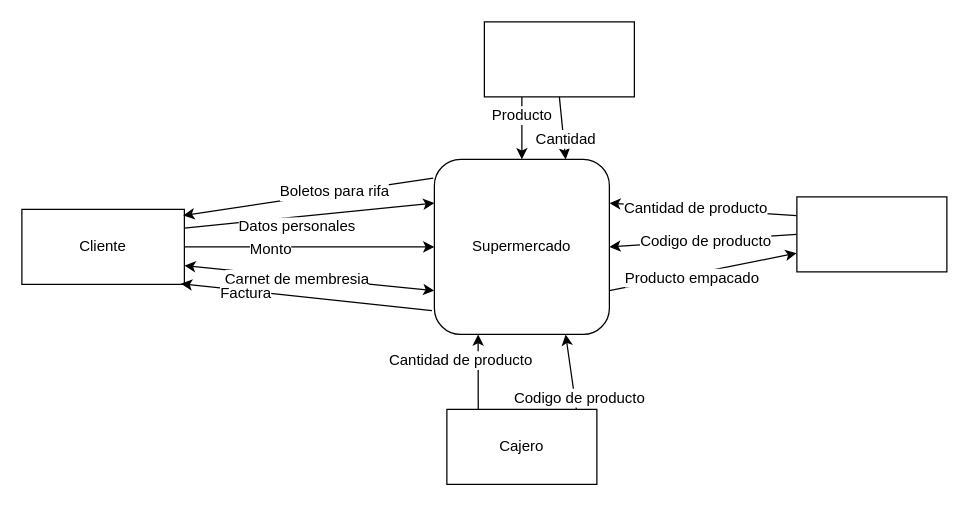
The diagram is 969 pixels wide and 506 high, and some of its shapes have lost their labels. Each missing label, with the centre of its shape:
Empacador: (871,234)
Personal del almacen: (558,59)
